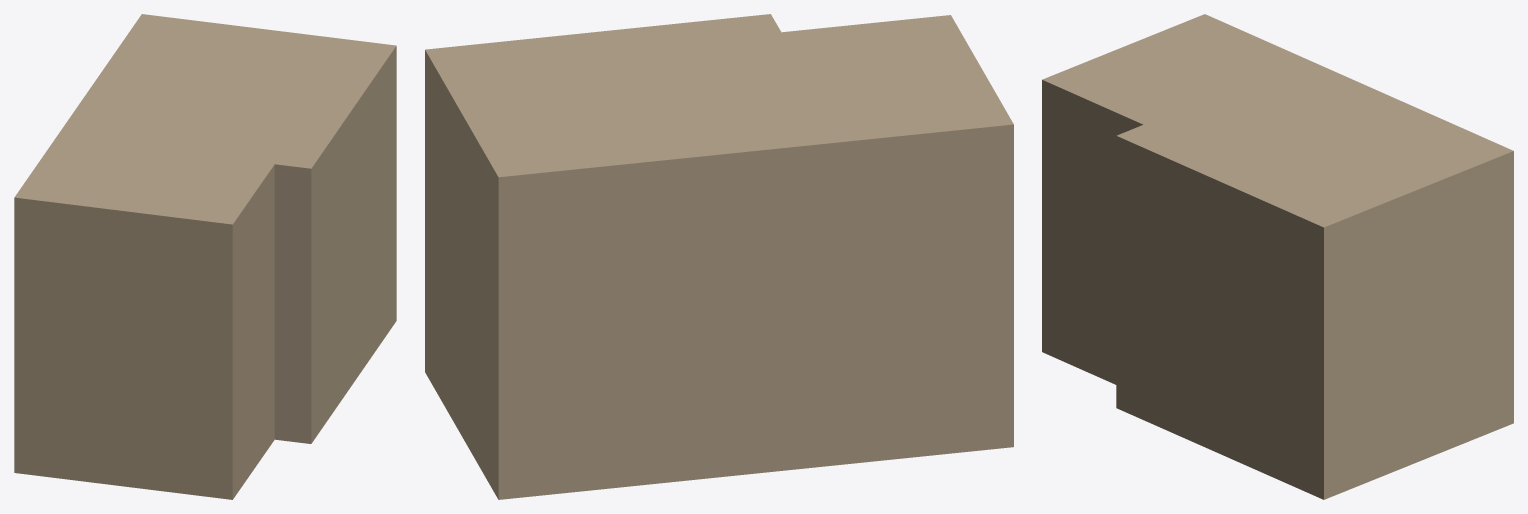
Rendered from bld_108162059.dae.
3 renders of one model, left to right at view 1: azimuth 30°, elevation 25°; view 2: azimuth 150°, elevation 25°; view 3: azimuth 270°, elevation 25°, orthographic. The views are drawn at different scales.
Visible parts, largest first — view 1: bld_108162059; view 2: bld_108162059; view 3: bld_108162059.
Boxes of the visible parts, x1=… form: bld_108162059: x1=14, y1=14, x2=396, y2=499; bld_108162059: x1=425, y1=14, x2=1013, y2=499; bld_108162059: x1=1042, y1=14, x2=1513, y2=499.
Bounding box in the file's own units: 13.45 × 12.56 × 8.
